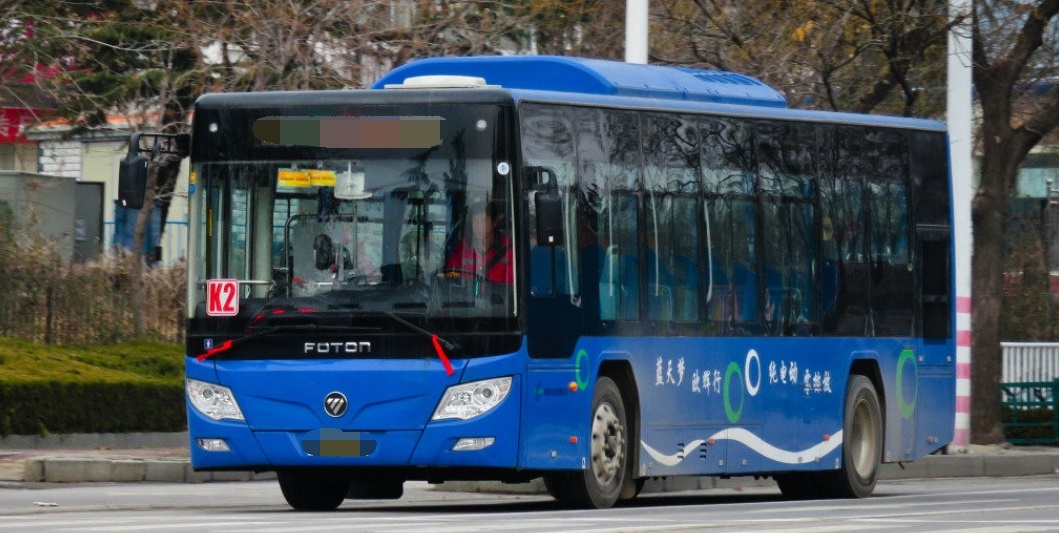bus: (145, 67, 972, 511)
